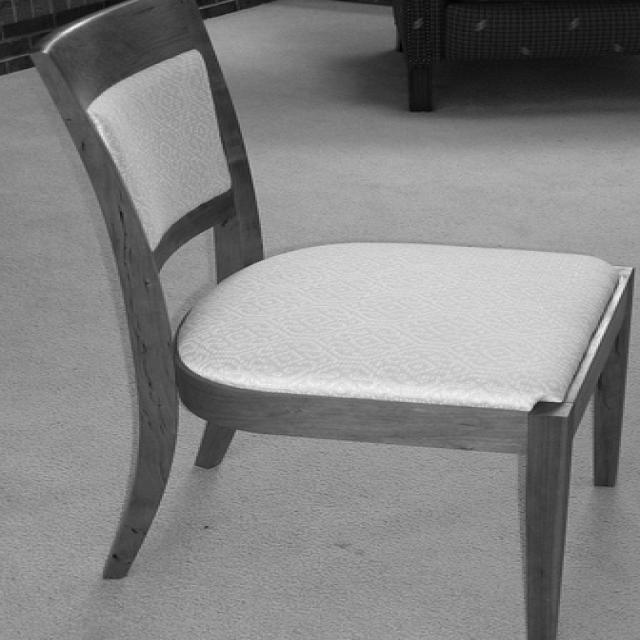chair: (26, 0, 639, 638)
